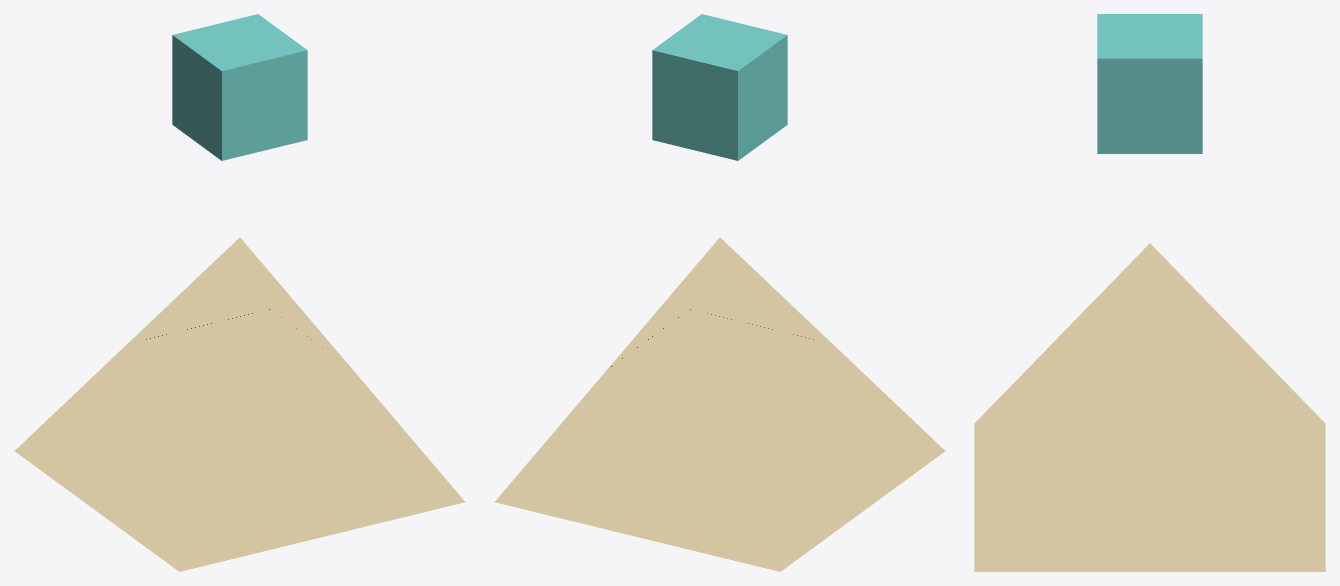
The model's file is TestScene.gltf.
3 renders of one model, left to right at view 1: azimuth 30°, elevation 25°; view 2: azimuth 150°, elevation 25°; view 3: azimuth 270°, elevation 25°, orthographic. The views are drawn at different scales.
Parts seen in each view (by area): view 1: Pyramid, FloatingCube; view 2: Pyramid, FloatingCube; view 3: Pyramid, FloatingCube.
Part boxes in pixels (box(x1,y1,x2,y2)): Pyramid: box(14, 237, 465, 571); FloatingCube: box(172, 14, 307, 160); Pyramid: box(494, 237, 945, 571); FloatingCube: box(652, 14, 787, 160); Pyramid: box(974, 243, 1325, 571); FloatingCube: box(1097, 14, 1202, 153).
Size of the model in its own units: 2 by 2.9 by 2.
